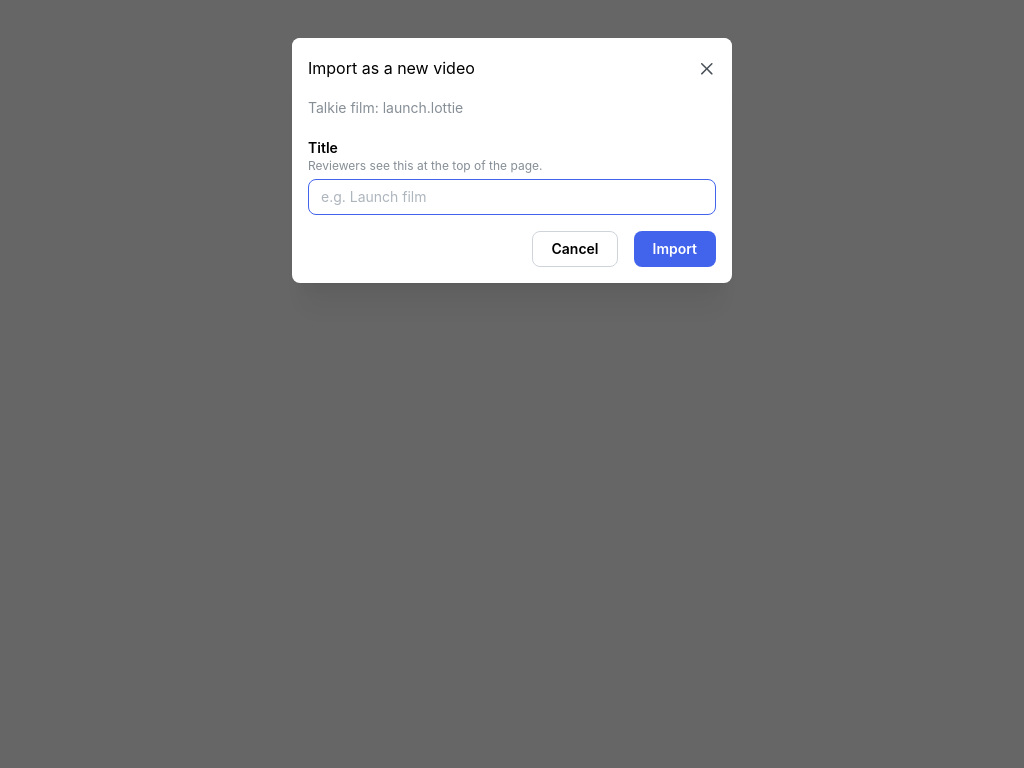
it: ImportModal with Talkie films › shows the film refusal the server gives
Type "Launch" into the field with test id "admin-import-title".
click(512, 197); type("Launch")  # box [308,179,716,215]
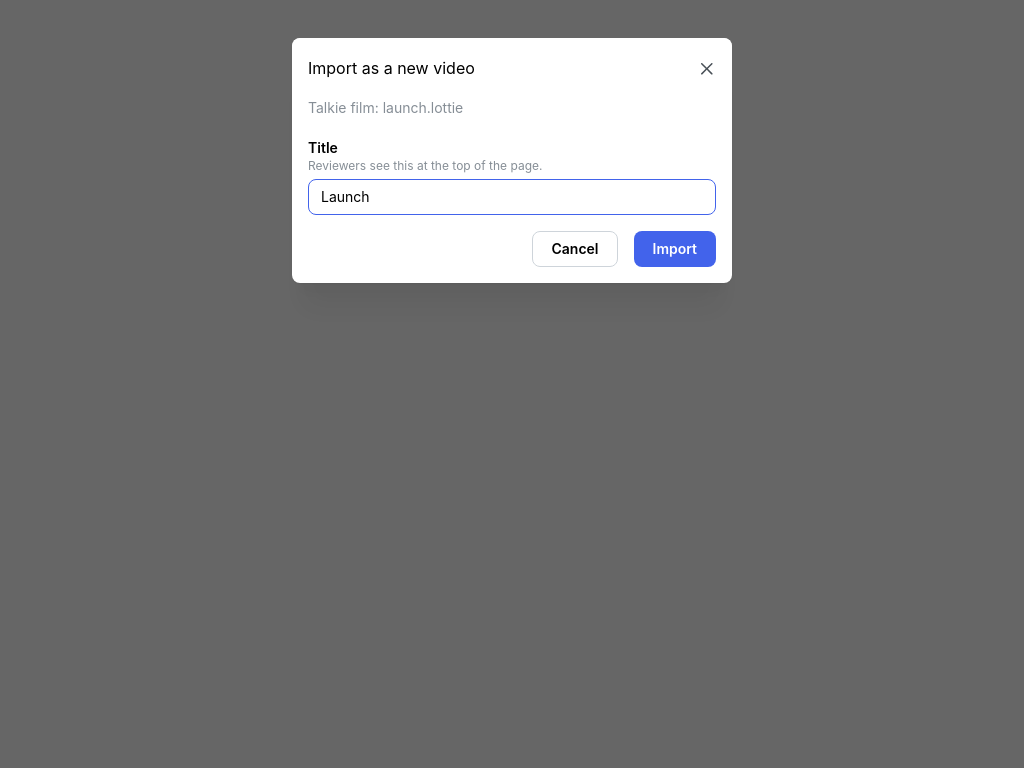
Click the button with test id "admin-import-submit".
click(675, 249)  # box [634,231,716,267]
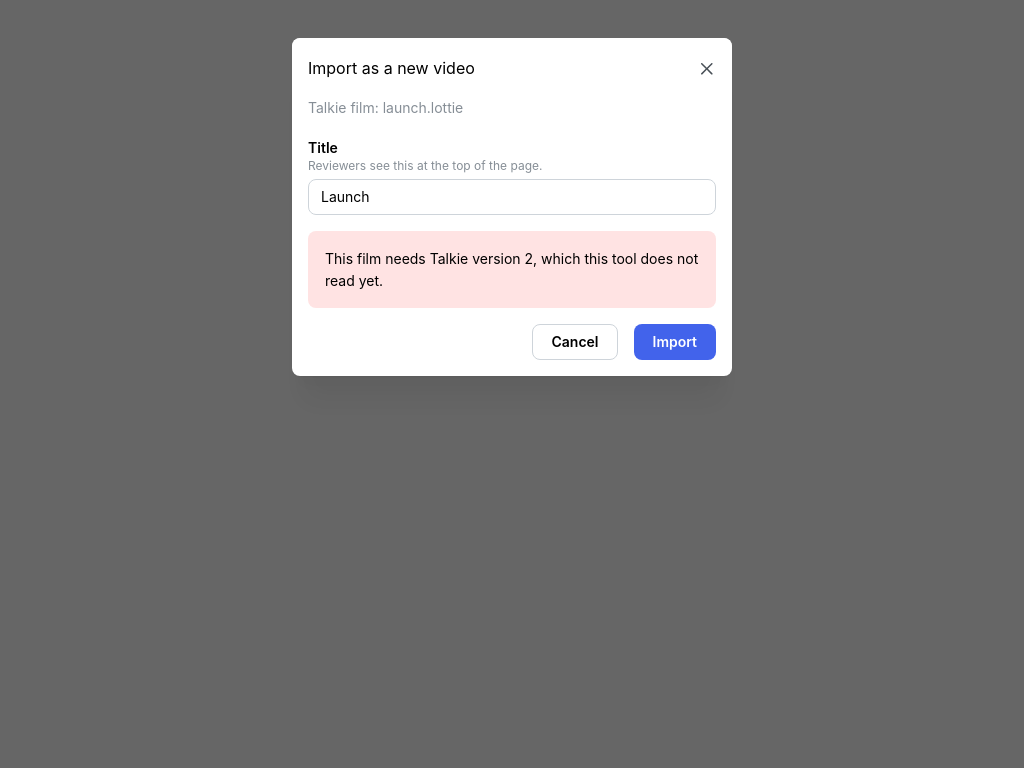
Check: the message with test id "admin-import-error" reads "This film needs Talkie version 2, which this tool does not read yet.", box [325,250,698,289]
